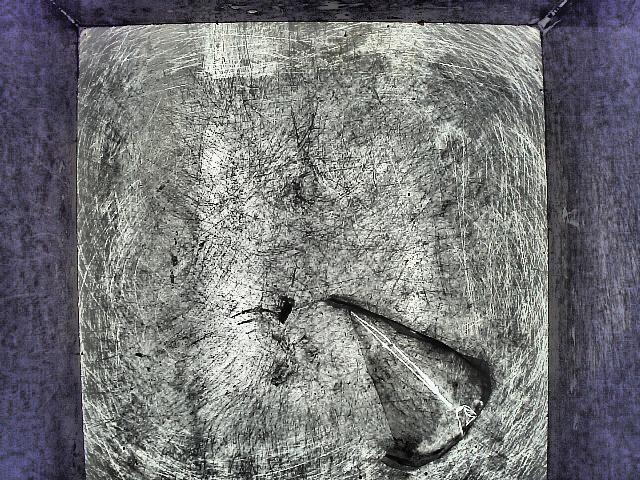Plastic: (295, 280, 503, 478)
